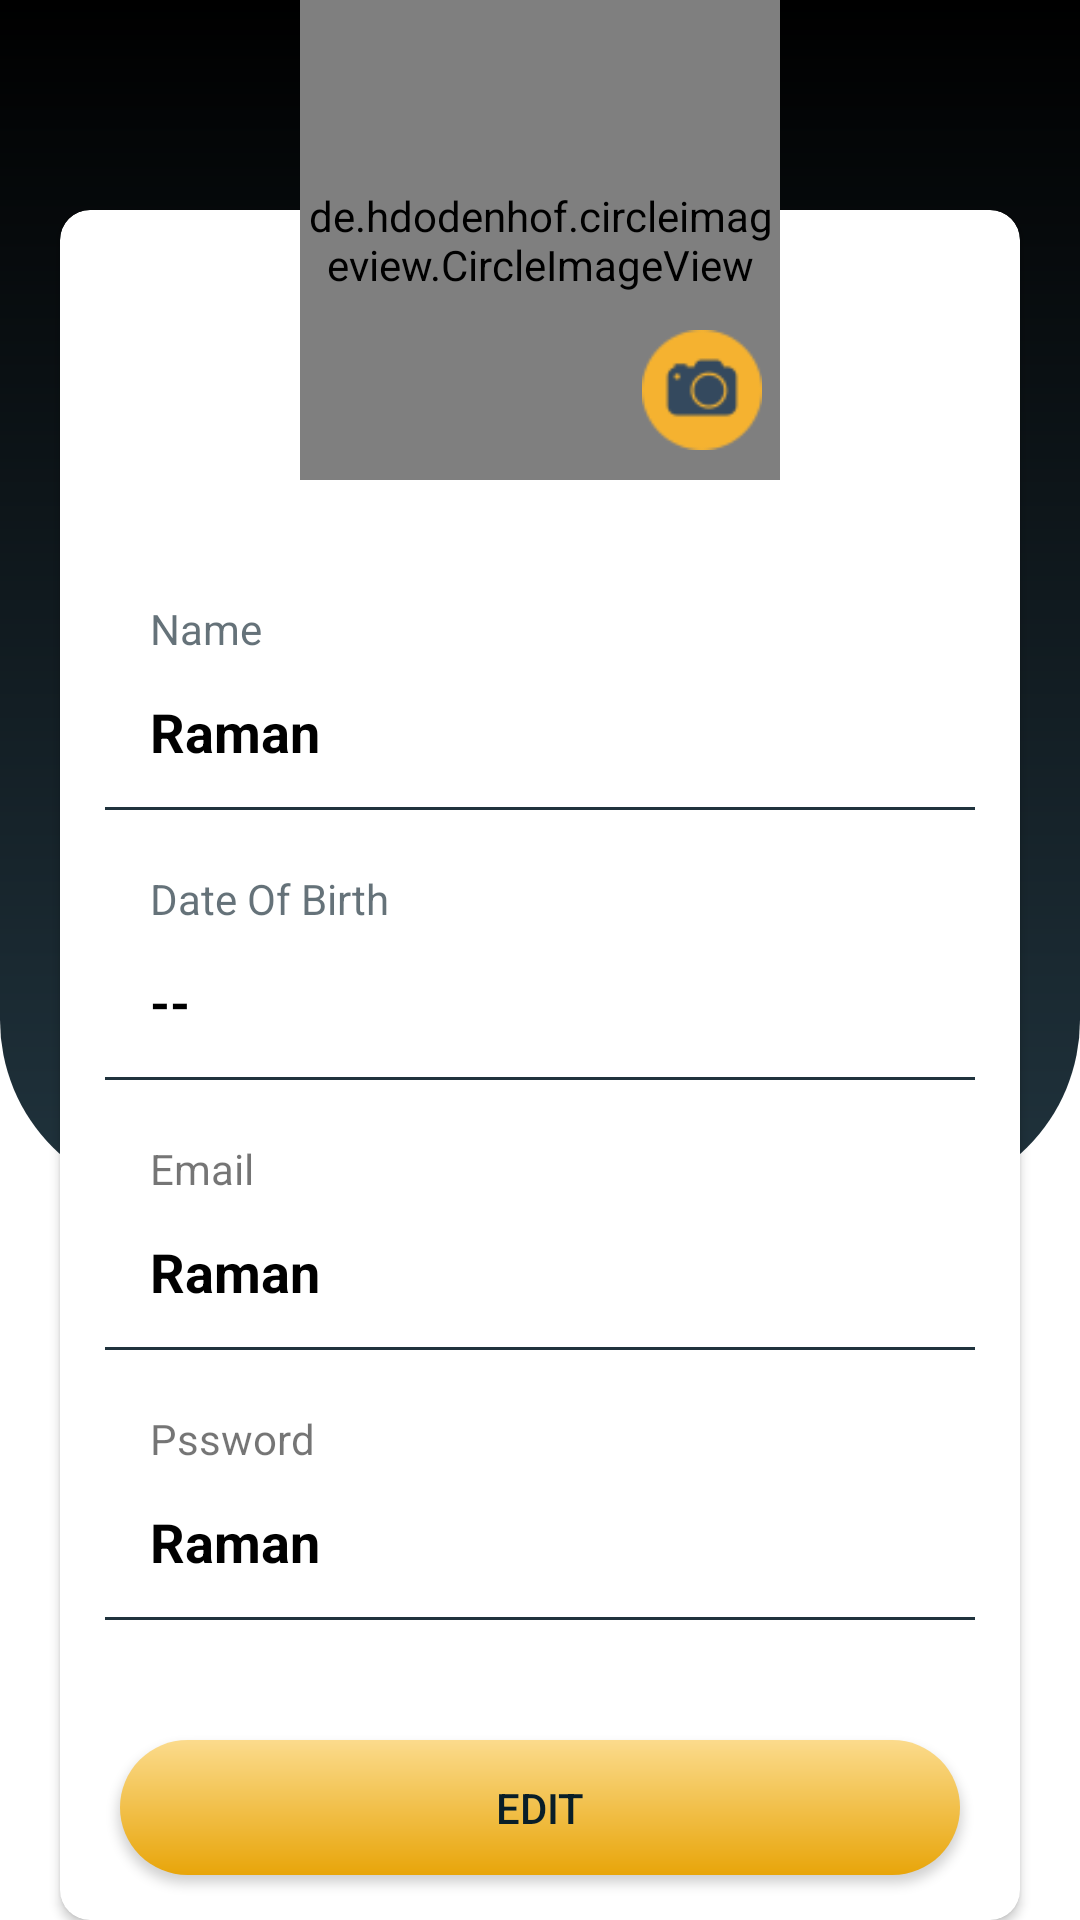

Named icons in this screenshot (1080w x 1920h) and their bounding boxes, [x1,y1,x2,y2]:
camera: [642,330,762,450]
